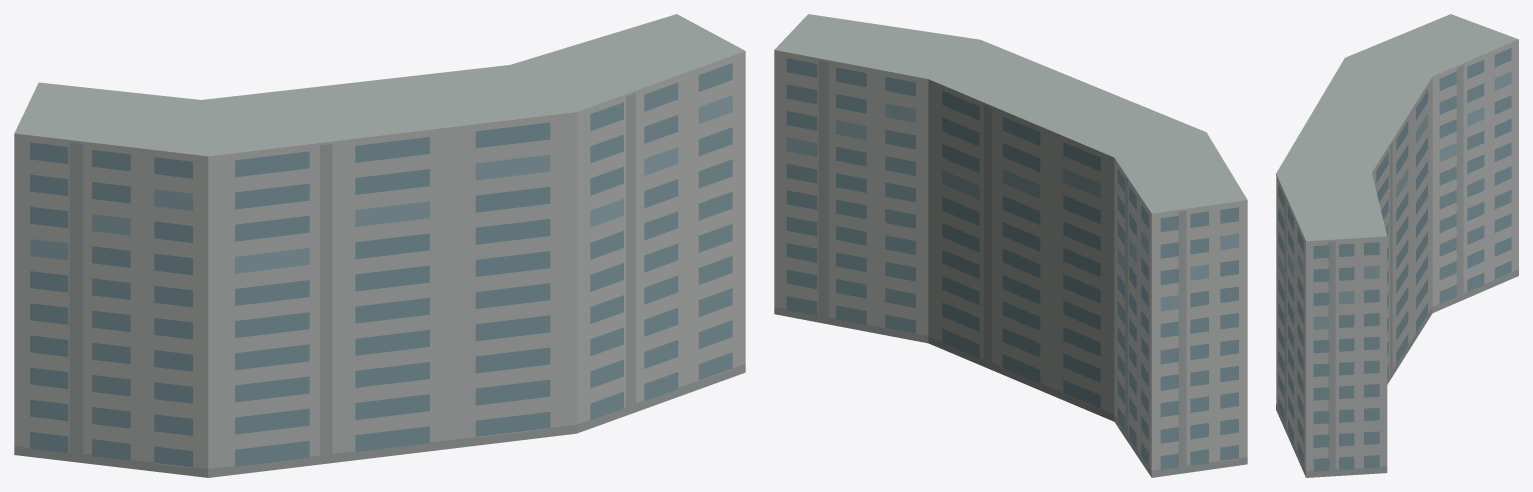
Rendered from residential-dba1d49c-61bf-4d2d-9eaa-26a0db2a3e18.glb.
3 views of the same model, side by side, from view 1: azimuth 30°, elevation 25°; view 2: azimuth 150°, elevation 25°; view 3: azimuth 270°, elevation 25° (orthographic). The views are drawn at different scales.
Parts seen in each view (by area): view 1: residential-dba1d49c-61bf-4d2d-9eaa-26a0db2a3e18.tmp; view 2: residential-dba1d49c-61bf-4d2d-9eaa-26a0db2a3e18.tmp; view 3: residential-dba1d49c-61bf-4d2d-9eaa-26a0db2a3e18.tmp.
Part boxes in pixels (x1,y1,x2,y2): residential-dba1d49c-61bf-4d2d-9eaa-26a0db2a3e18.tmp: [14, 14, 745, 477]; residential-dba1d49c-61bf-4d2d-9eaa-26a0db2a3e18.tmp: [774, 14, 1247, 477]; residential-dba1d49c-61bf-4d2d-9eaa-26a0db2a3e18.tmp: [1276, 14, 1518, 477].
Bounding box in the file's own units: 65.94 × 32 × 29.75.
